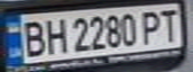0: (118, 10, 142, 47)
2: (87, 12, 109, 51), (69, 14, 90, 53)
8: (103, 11, 124, 48)
B: (18, 17, 48, 57)
H: (42, 16, 69, 55)
P: (139, 8, 166, 45)
T: (154, 6, 181, 42)
